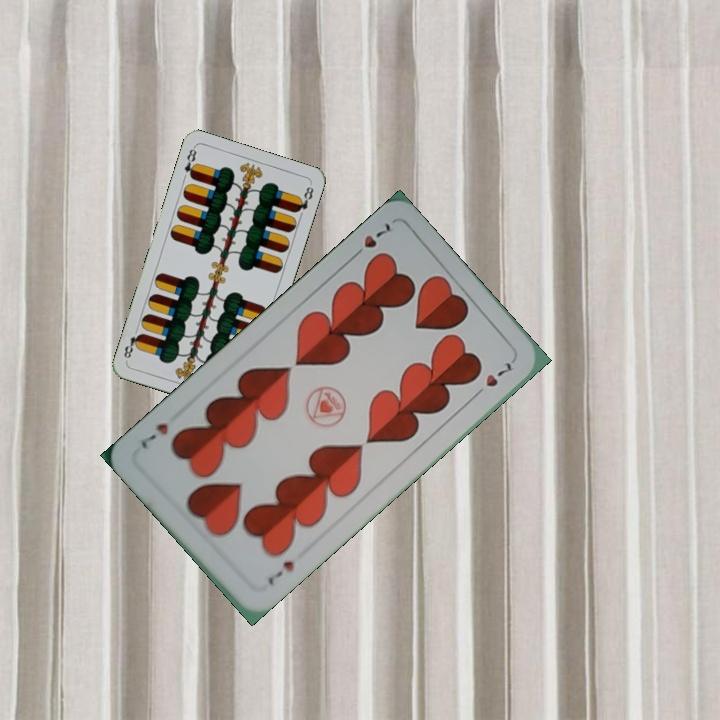E8: (180, 144, 200, 182)
H7: (347, 219, 393, 262), (263, 556, 297, 588)
